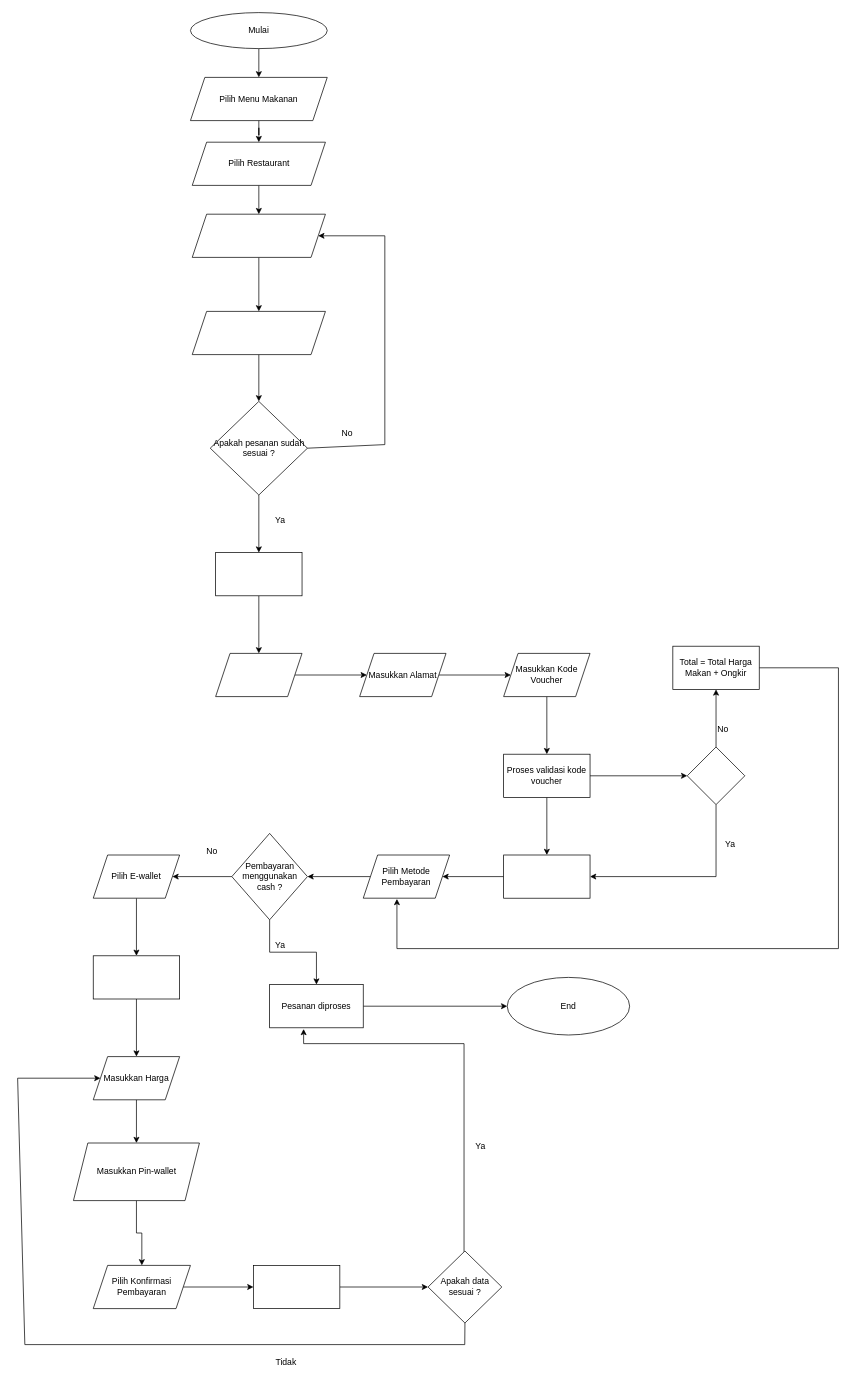
Some shapes in this 857 by 1386 pixel diagram are drawn without their labels. The centre of each missing label's shape, as x and y in pixels:
"Kode voucher valid ?" belongs at point (716, 775).
"Masukkan Jumlah Makanan" belongs at point (258, 333).
"Pilih Checkout" belongs at point (258, 675).
"Pilih Makanan" belongs at point (258, 235).
"Proses Redirect ke-wallet" belongs at point (136, 977).
"Total = Total Harga Makan + ongkir - diskon" belongs at point (546, 876).
"Total Pesanan = Makanan * jumlah" belongs at point (258, 574).
"Validasi Pin dan harga" belongs at point (296, 1287).
